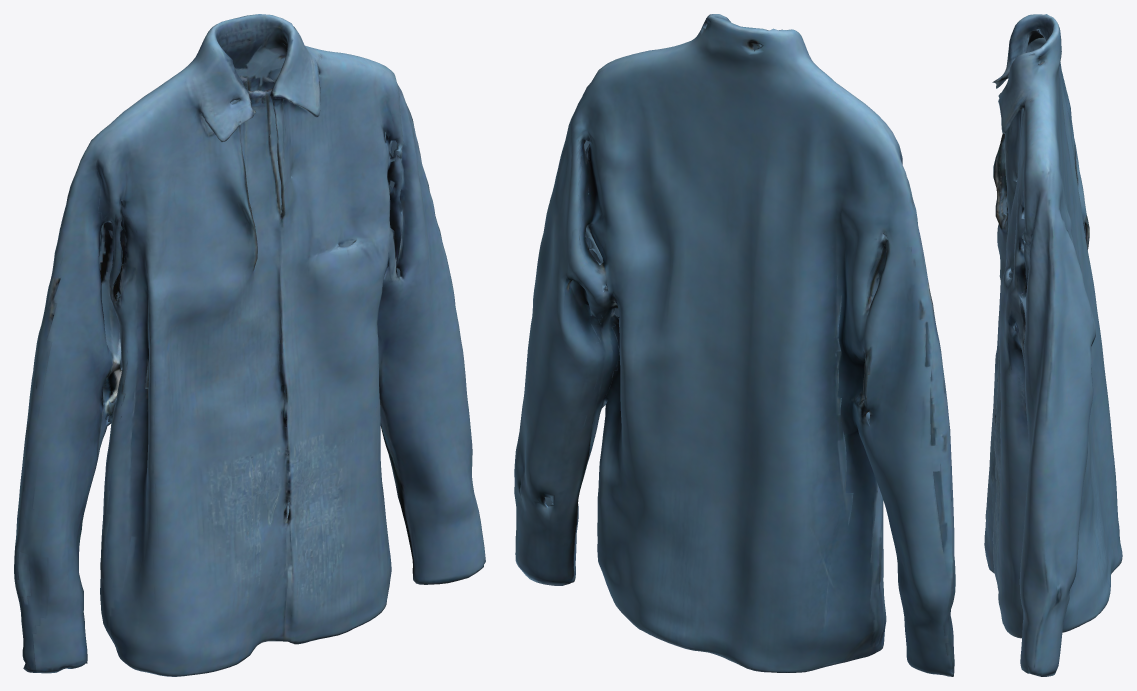
The model's file is Camisa.glb.
3 views of the same model, side by side, from view 1: azimuth 30°, elevation 25°; view 2: azimuth 150°, elevation 25°; view 3: azimuth 270°, elevation 25° (orthographic). The views are drawn at different scales.
Bounding box in the file's own units: 1.54 × 1.99 × 0.4435.
Materials: 1 (1 with a texture image).
